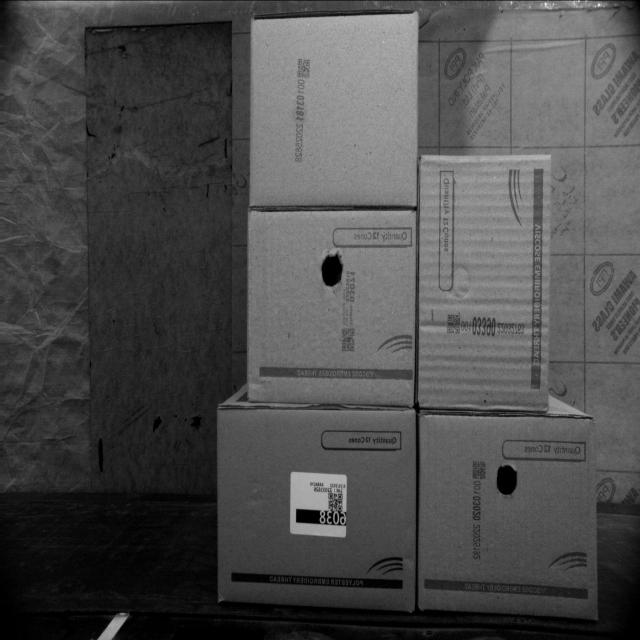cardboxes: (214, 408, 414, 614), (418, 154, 552, 409), (420, 417, 595, 612), (247, 12, 418, 210), (244, 210, 415, 402)
